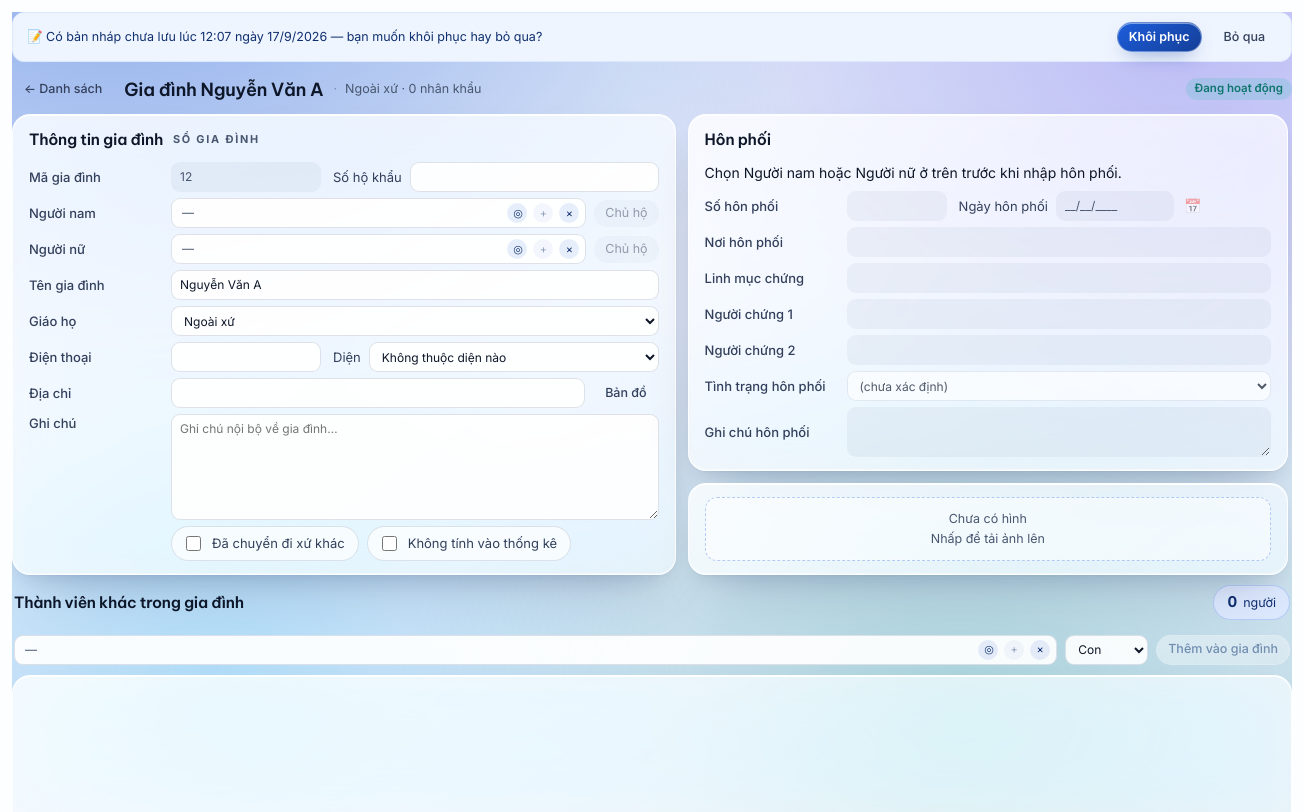
it: GiaDinhDetailPage › co ban nhap cu thi hien banner hoi khoi phuc, bam Khoi phuc thi ap dung vao form
Expected: the heading "Gia đình Nguyễn Văn A" is shown, [124,76,324,102]
Expected: the text "Có bản nháp chưa lưu" is shown, [27,29,179,44]
Click the button "Khôi phục": (1159, 37) [1117,22,1202,52]
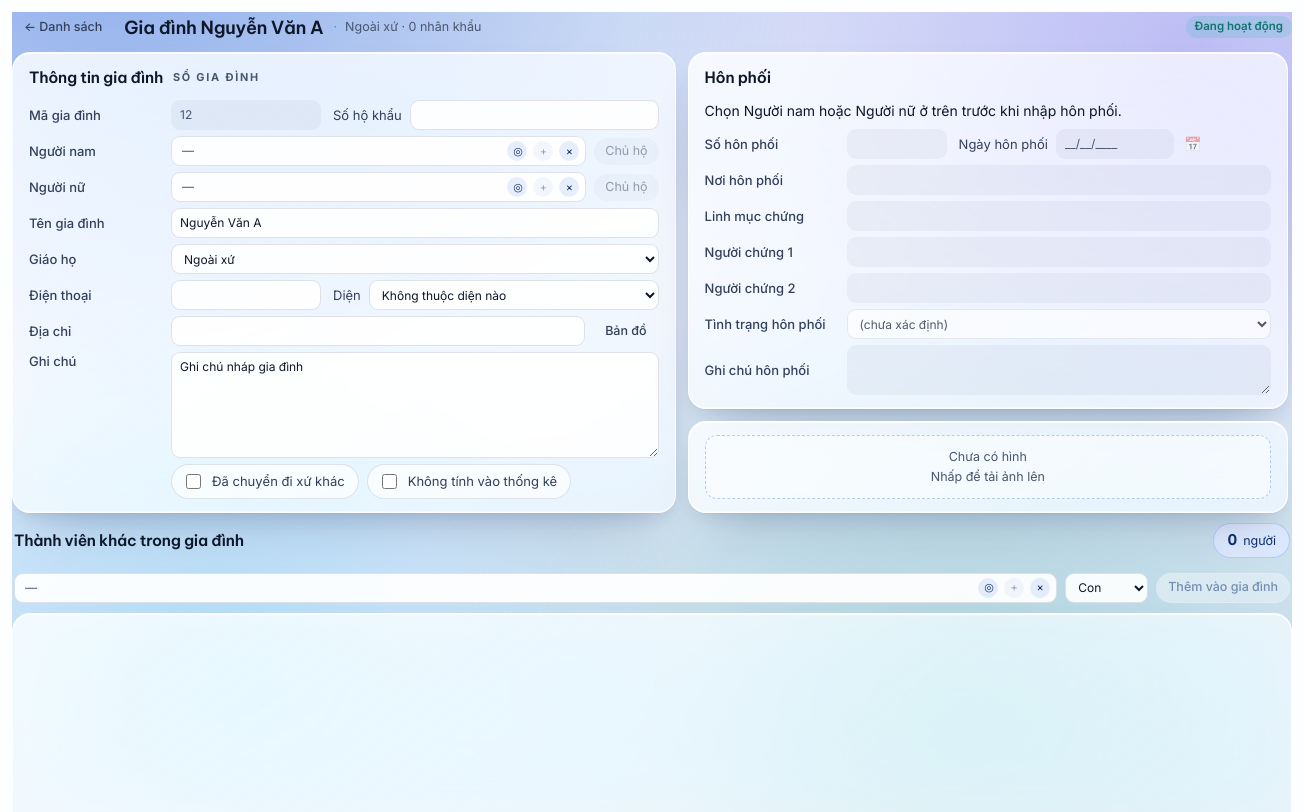
Expected: the text box labelled "Ghi chú" holds "Ghi chú nháp gia đình", [171,352,659,458]
Expected: the text "Có bản nháp chưa lưu" is gone
